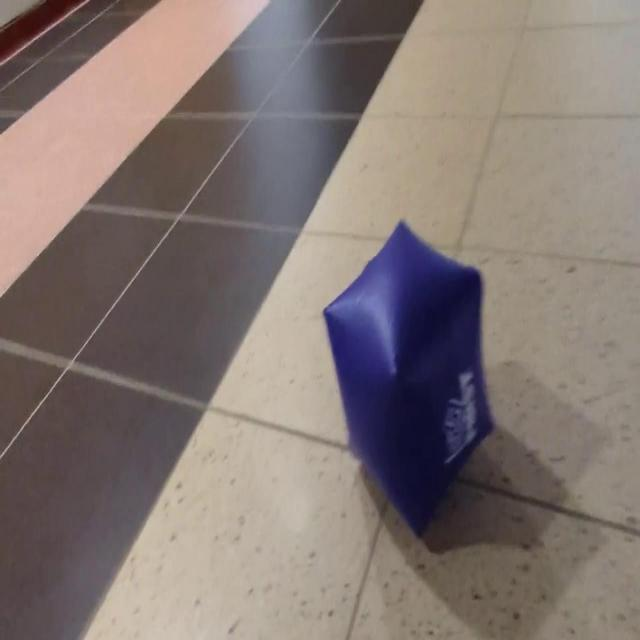frc_cube: (325, 217, 495, 540)
